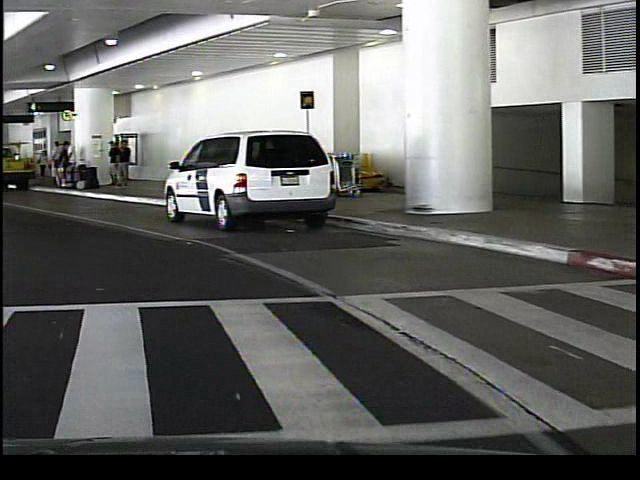person: (44, 138, 59, 190), (116, 139, 131, 187)
